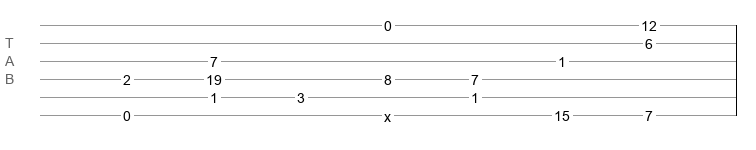0: (123, 108, 131, 118), (384, 18, 392, 28)
1: (210, 90, 218, 100), (471, 90, 479, 100), (558, 54, 566, 64)
12: (641, 18, 657, 28)
15: (554, 108, 570, 118)
19: (206, 72, 222, 82)
2: (123, 72, 131, 82)
3: (297, 90, 305, 100)
6: (645, 36, 653, 46)
7: (210, 54, 218, 64), (471, 72, 479, 82), (645, 108, 653, 118)
8: (384, 72, 392, 82)
x: (384, 109, 391, 117)
